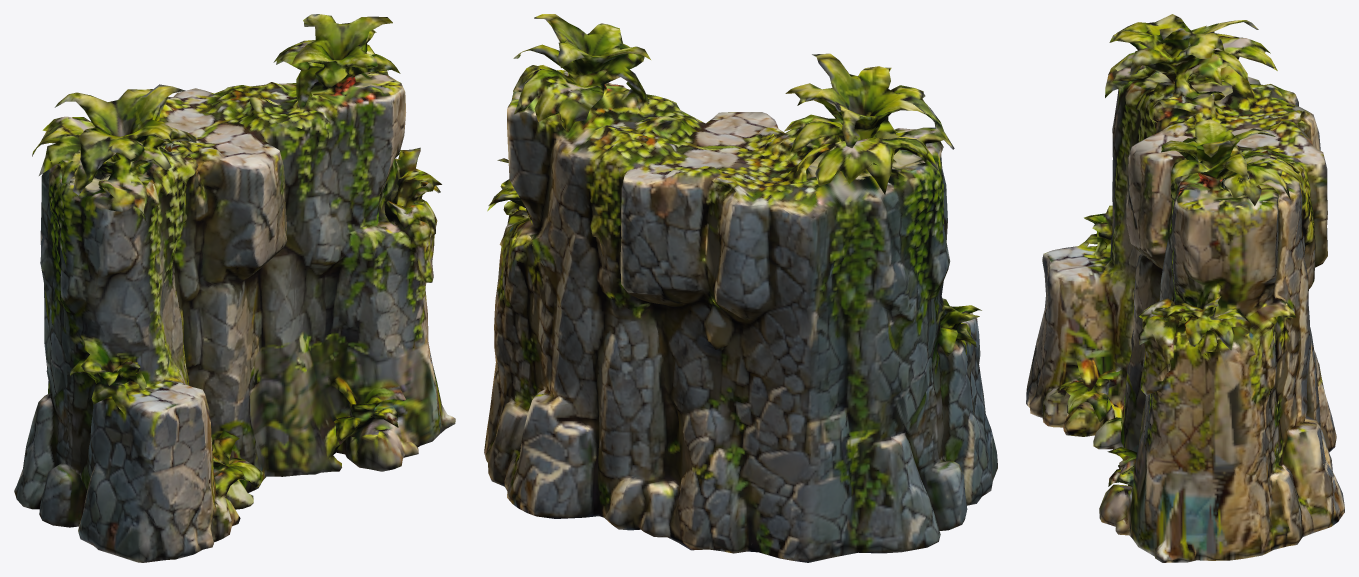
File: SummerDecor_ThirdRoom_CliffWall.fbx
3 renders of one model, left to right at view 1: azimuth 30°, elevation 25°; view 2: azimuth 150°, elevation 25°; view 3: azimuth 270°, elevation 25°, orthographic. The views are drawn at different scales.
Visible parts, largest first — view 1: SummerDecor_ThirdRoom_CliffWall_Mesh; view 2: SummerDecor_ThirdRoom_CliffWall_Mesh; view 3: SummerDecor_ThirdRoom_CliffWall_Mesh.
Boxes of the visible parts, bbox=[...] form: SummerDecor_ThirdRoom_CliffWall_Mesh: bbox=[14, 14, 455, 562]; SummerDecor_ThirdRoom_CliffWall_Mesh: bbox=[484, 14, 997, 562]; SummerDecor_ThirdRoom_CliffWall_Mesh: bbox=[1026, 14, 1344, 562].
Bounding box in the file's own units: 6 × 5.64 × 4.08.
1 material, 1 textured.
